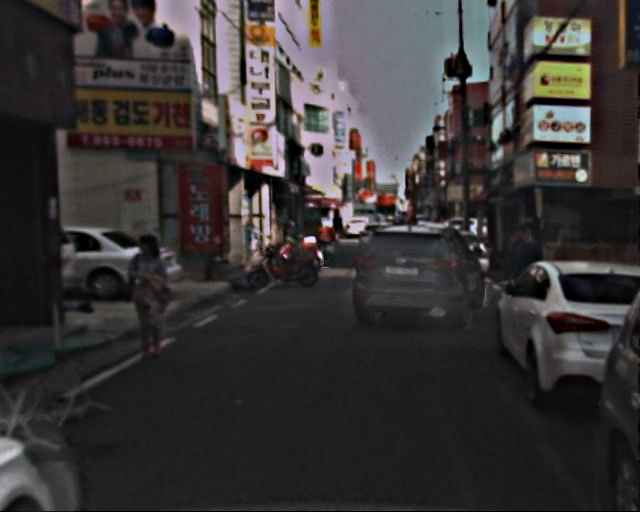person: (128, 231, 184, 356), (507, 220, 547, 316)
